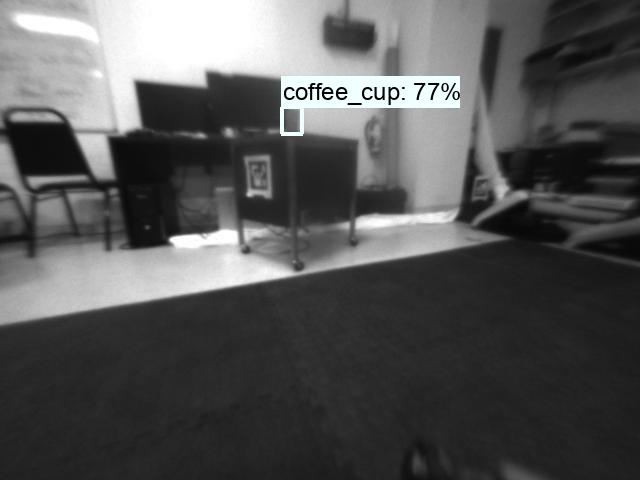coffee_cup: (282, 107, 302, 134)
